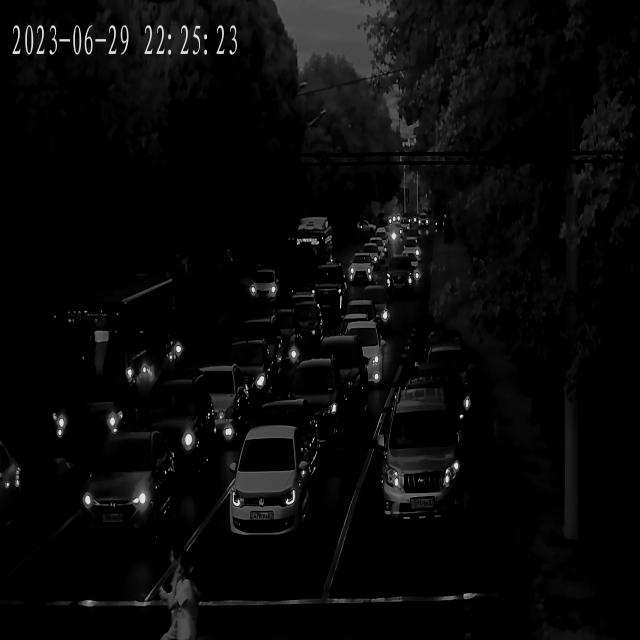Bus: (53, 283, 177, 454), (293, 215, 336, 273)
Car: (375, 392, 464, 531), (225, 424, 318, 544), (74, 436, 177, 542), (135, 373, 214, 486), (269, 356, 345, 445), (394, 371, 469, 433), (242, 402, 319, 462), (189, 366, 249, 438), (323, 324, 388, 390), (218, 340, 280, 404), (306, 335, 368, 393), (235, 321, 300, 374), (414, 346, 473, 398), (0, 435, 20, 548), (276, 297, 322, 346), (340, 297, 386, 337), (310, 264, 351, 306), (376, 260, 414, 299), (252, 271, 283, 305), (346, 255, 376, 284), (357, 246, 381, 264), (401, 242, 422, 260)
